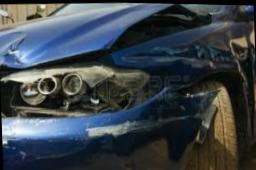Bonnet: (0, 3, 224, 69)
Bumper: (1, 91, 227, 170)
Fender: (110, 19, 256, 135)
Light: (0, 66, 168, 119)
